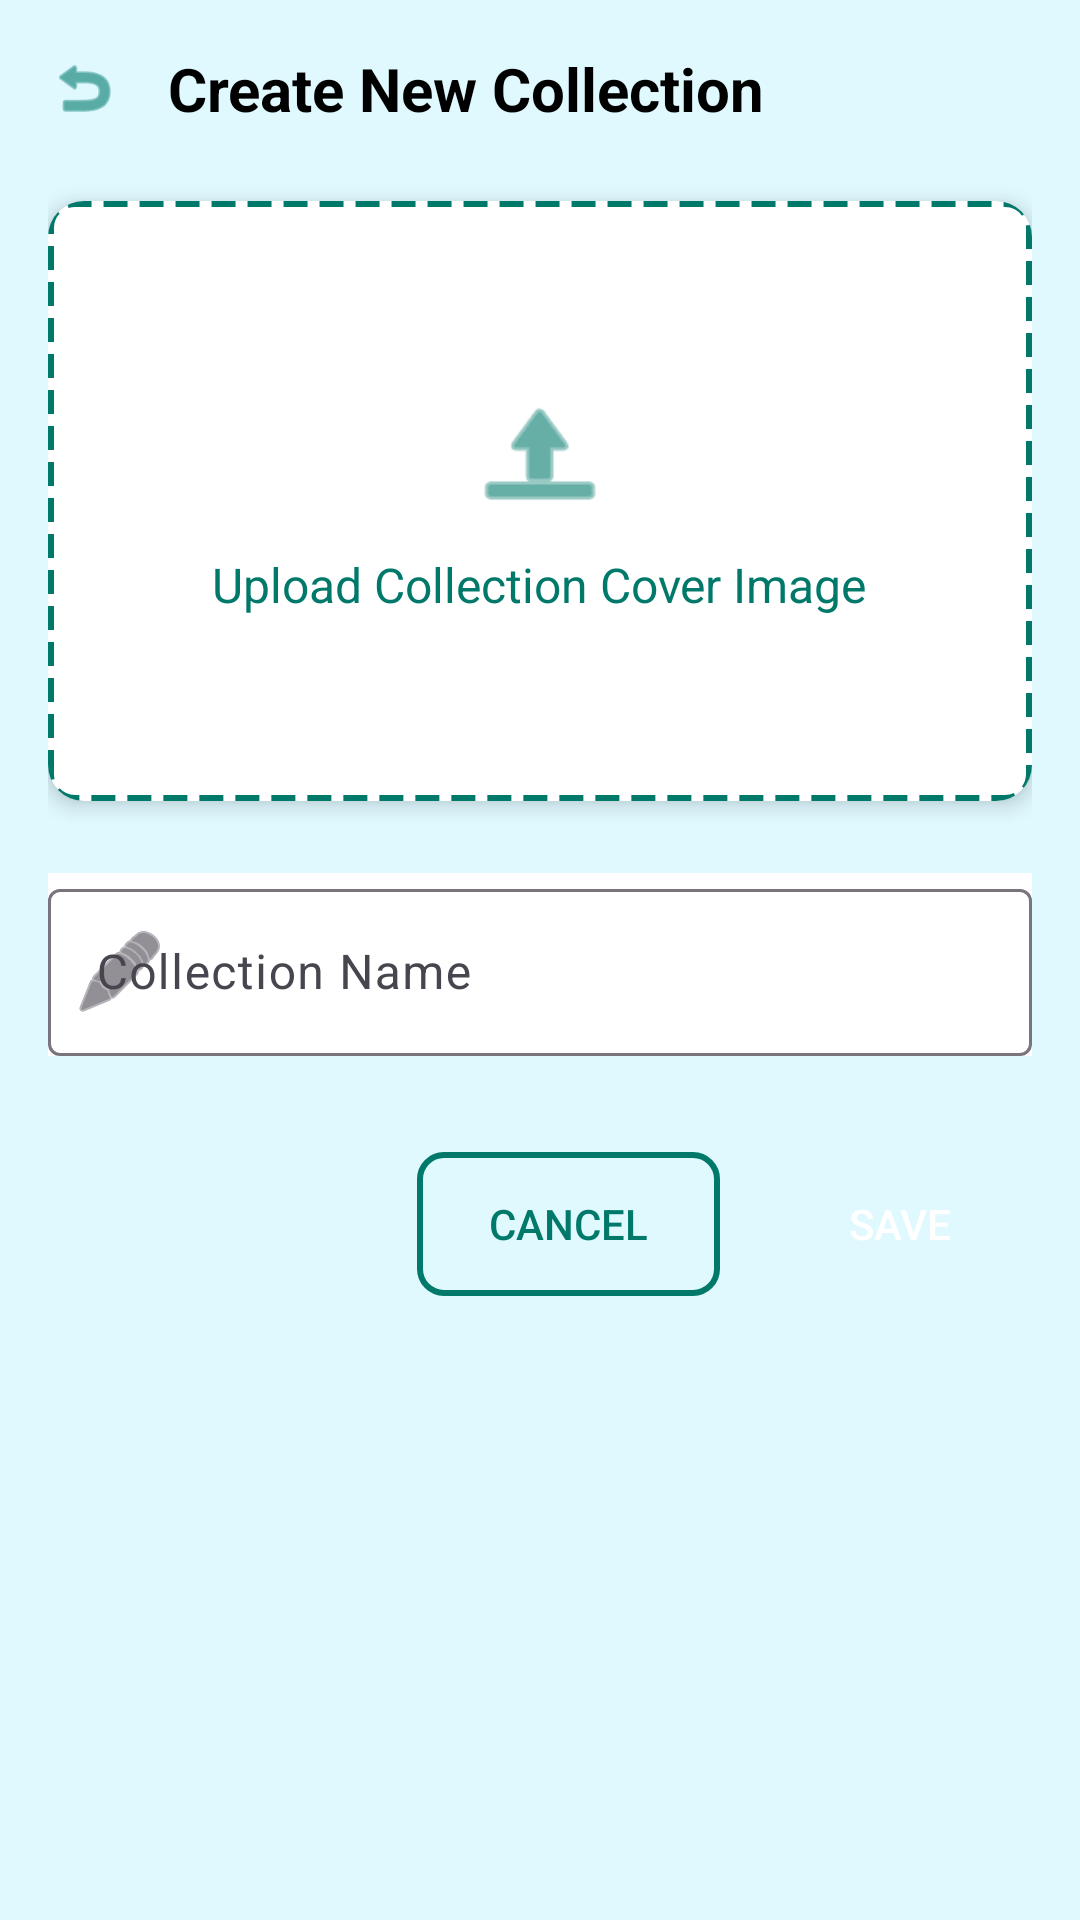

Icons on this 1080px x 1920px Android screen, each with the point to tap as point (x, y):
revert: point (85, 88)
